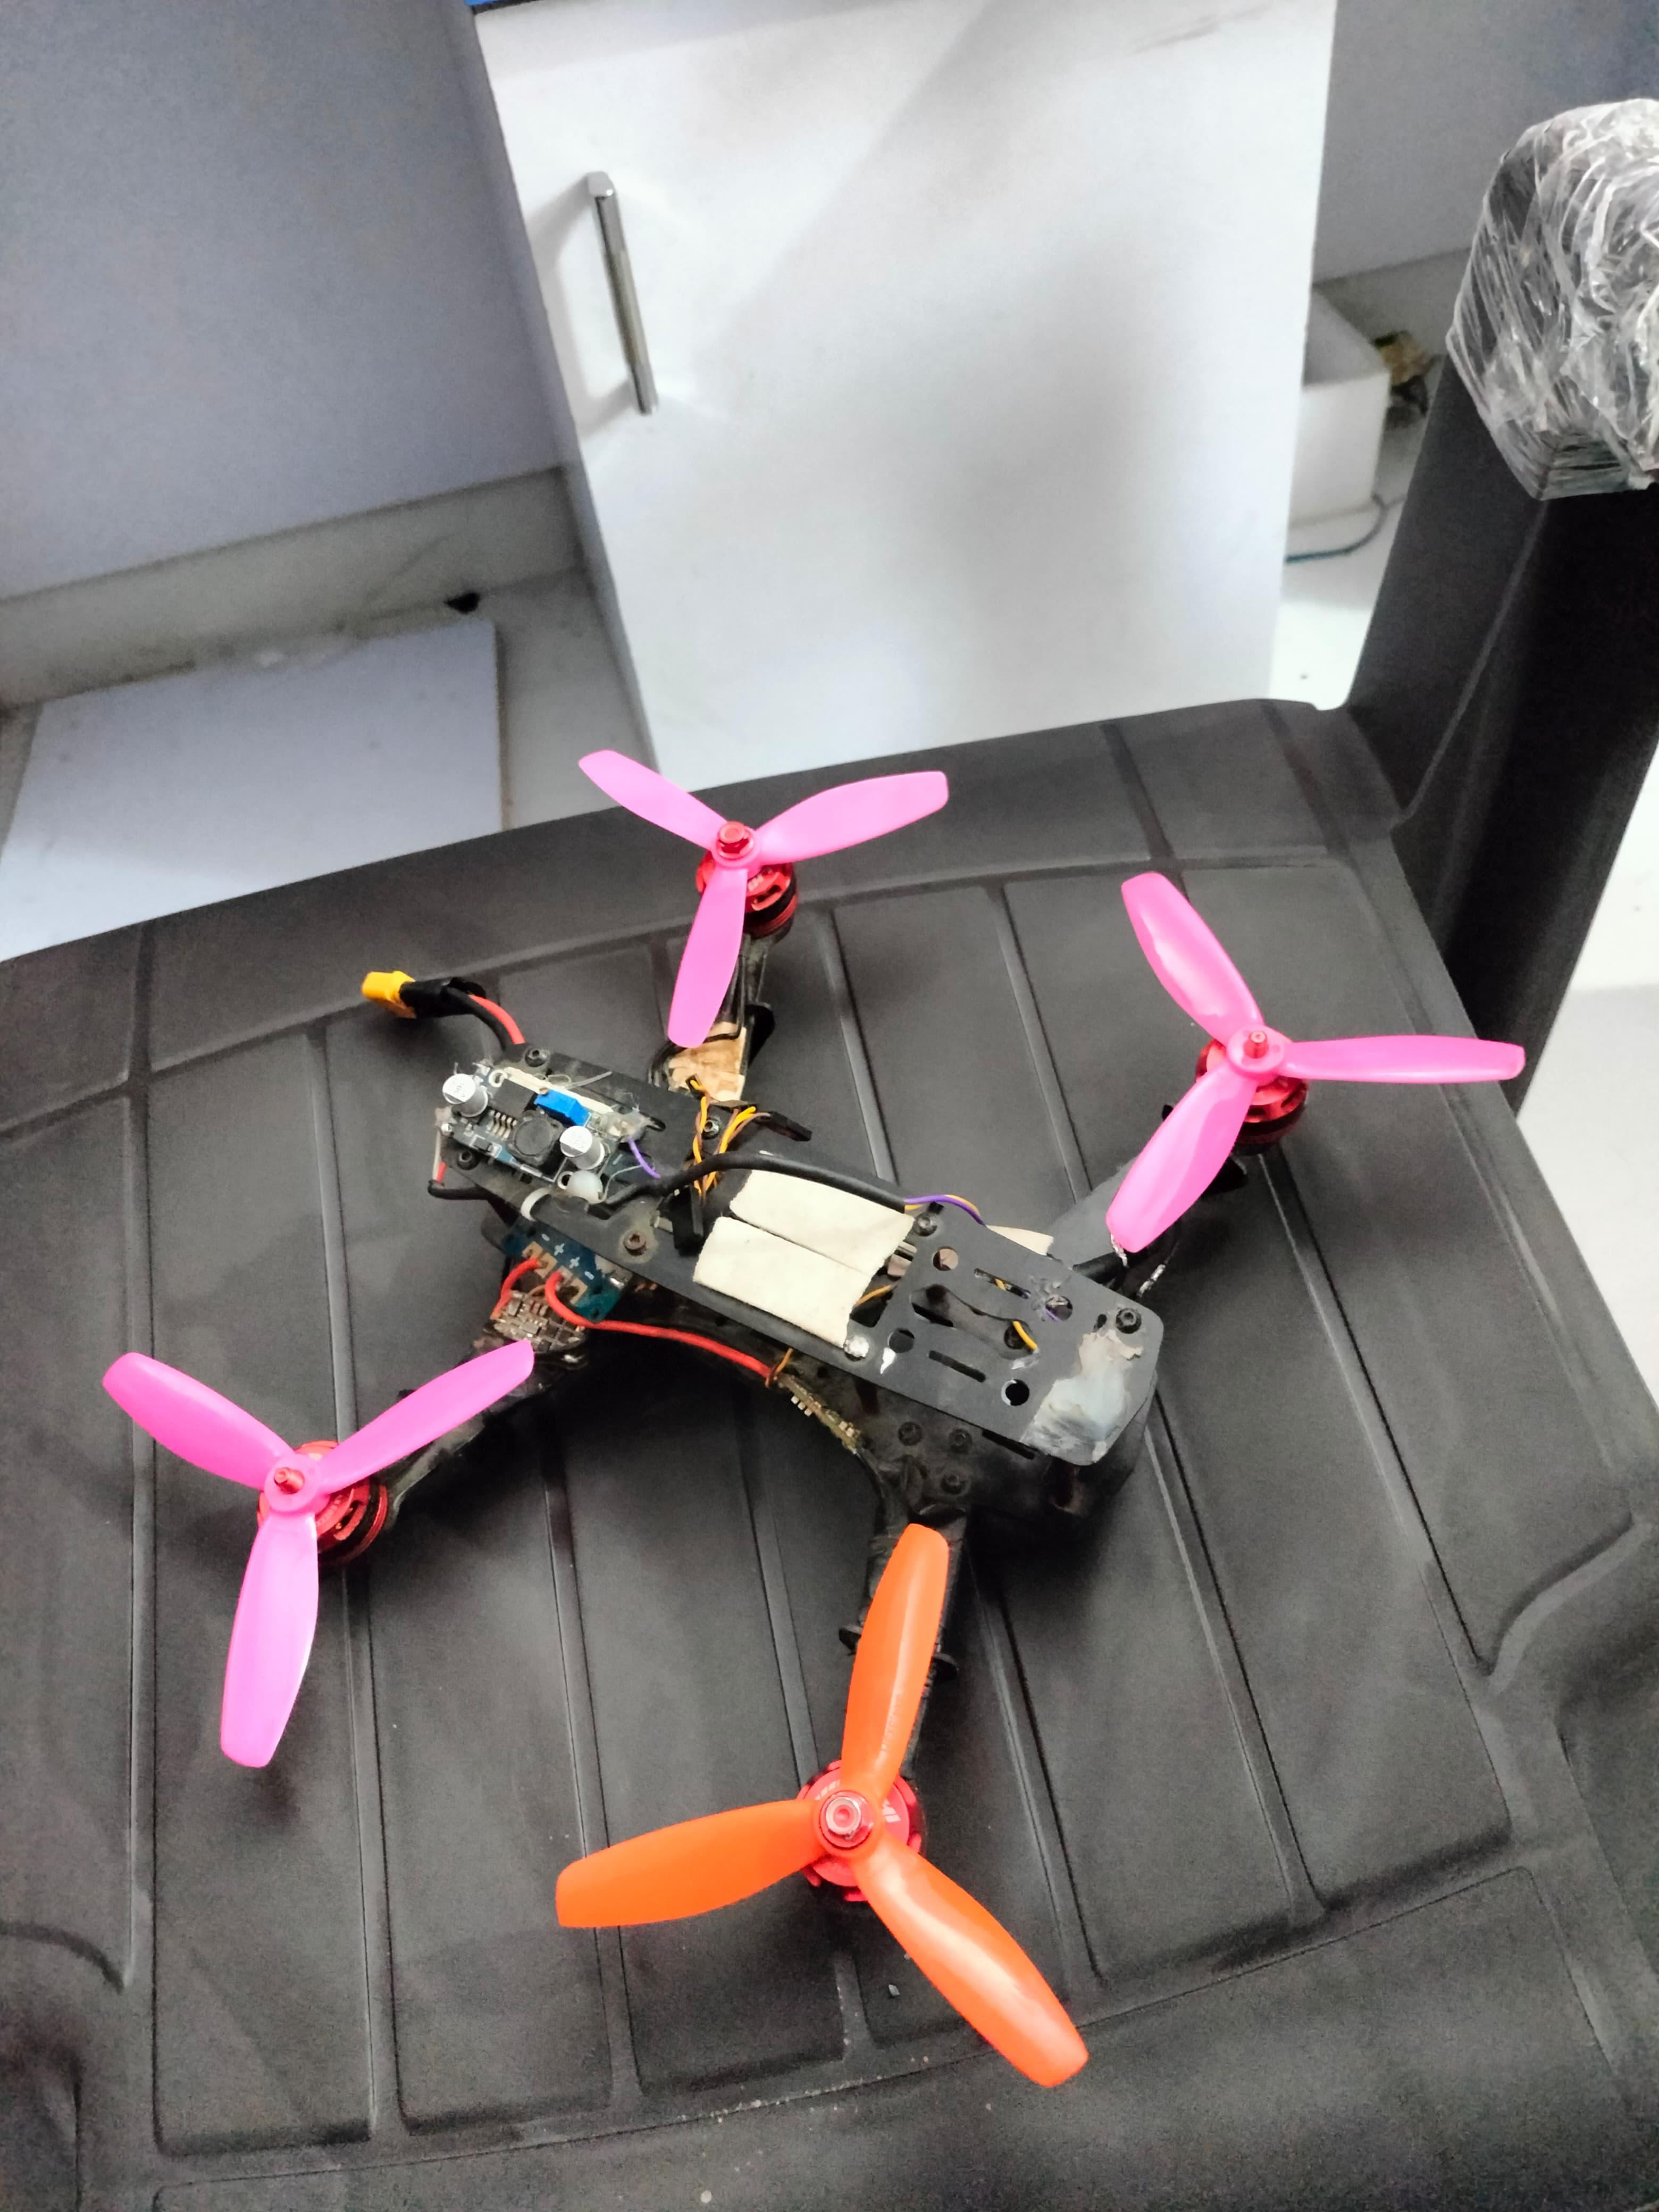drone: (103, 698, 1441, 2071)
